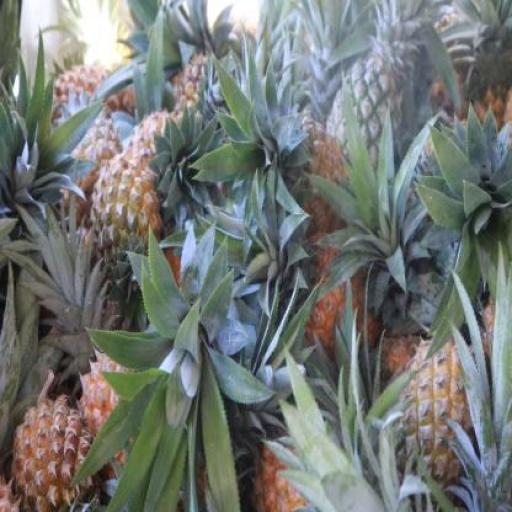------------------------------: (387, 347, 471, 500), (93, 148, 161, 282)
Pineapple - v8 v1: (13, 394, 90, 512)
